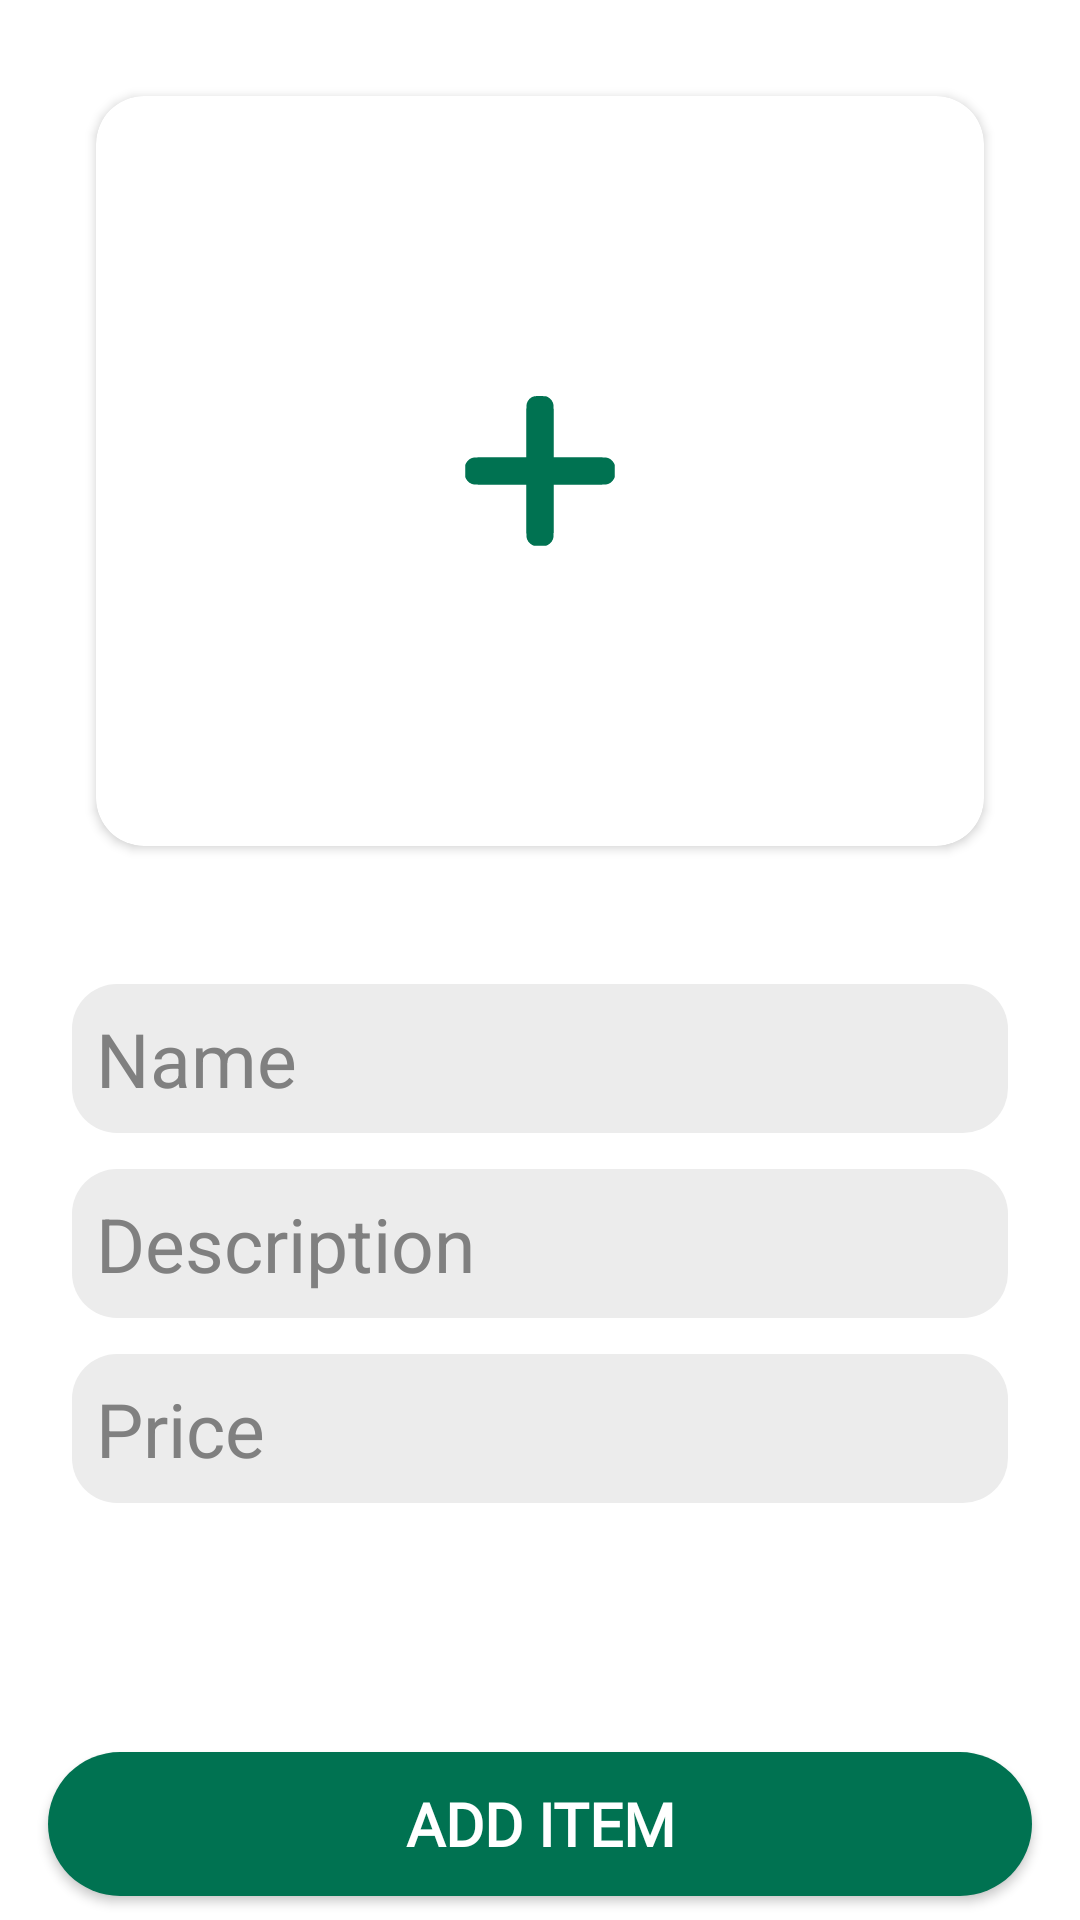

Where icons sit on this 1080*1920 app screen, as (x1,y1,x2,y2):
plus: (465,396,615,546)
